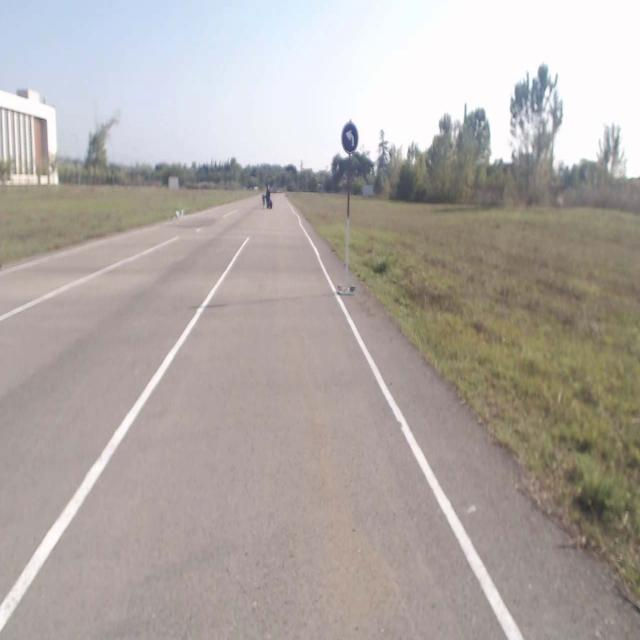sol: (342, 123, 358, 151)
